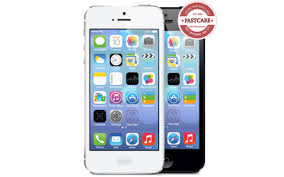iphone: (80, 1, 168, 177)
iphone5: (80, 1, 168, 177)
